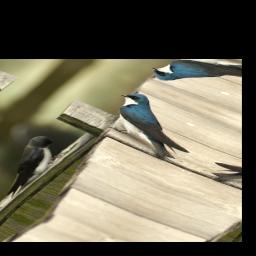Swallow: (85, 89, 221, 163)
